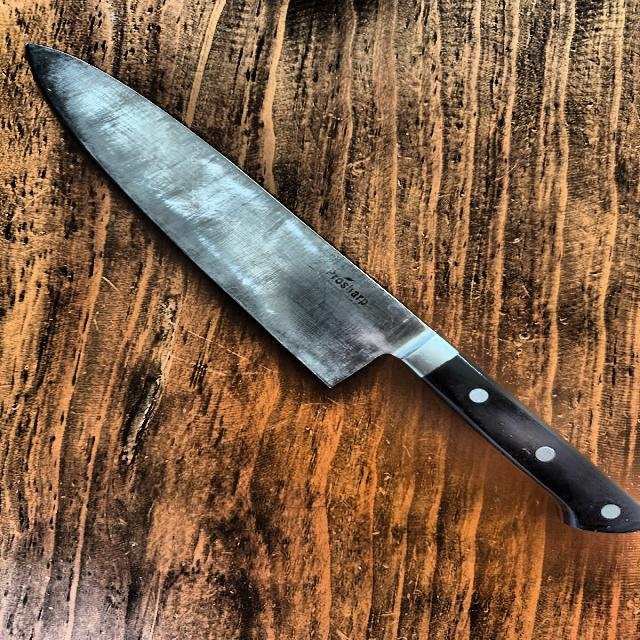knife: (24, 39, 640, 539)
